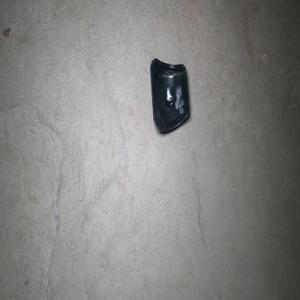LuggagePart: (149, 57, 190, 135)
